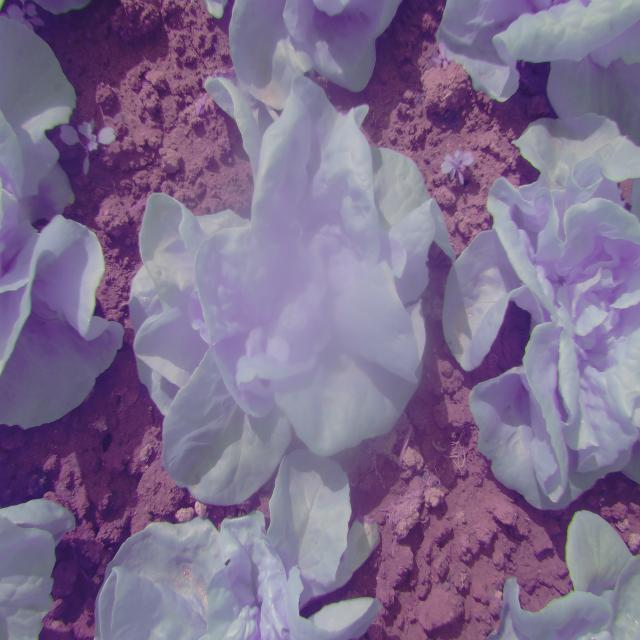vege: (110, 78, 452, 505)
